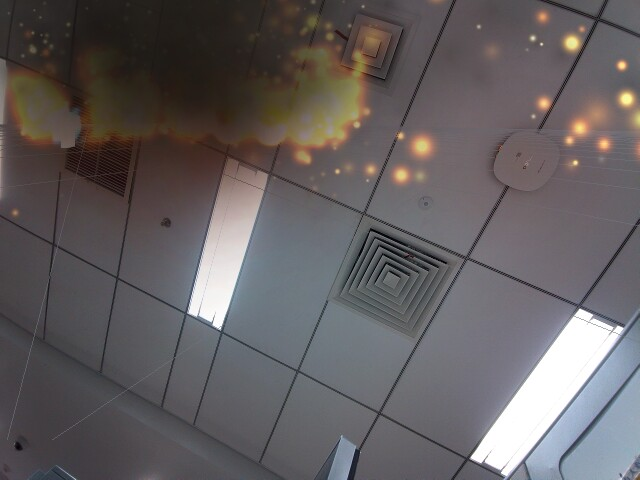fire: (166, 98, 212, 139), (215, 113, 250, 146), (256, 116, 291, 146)
